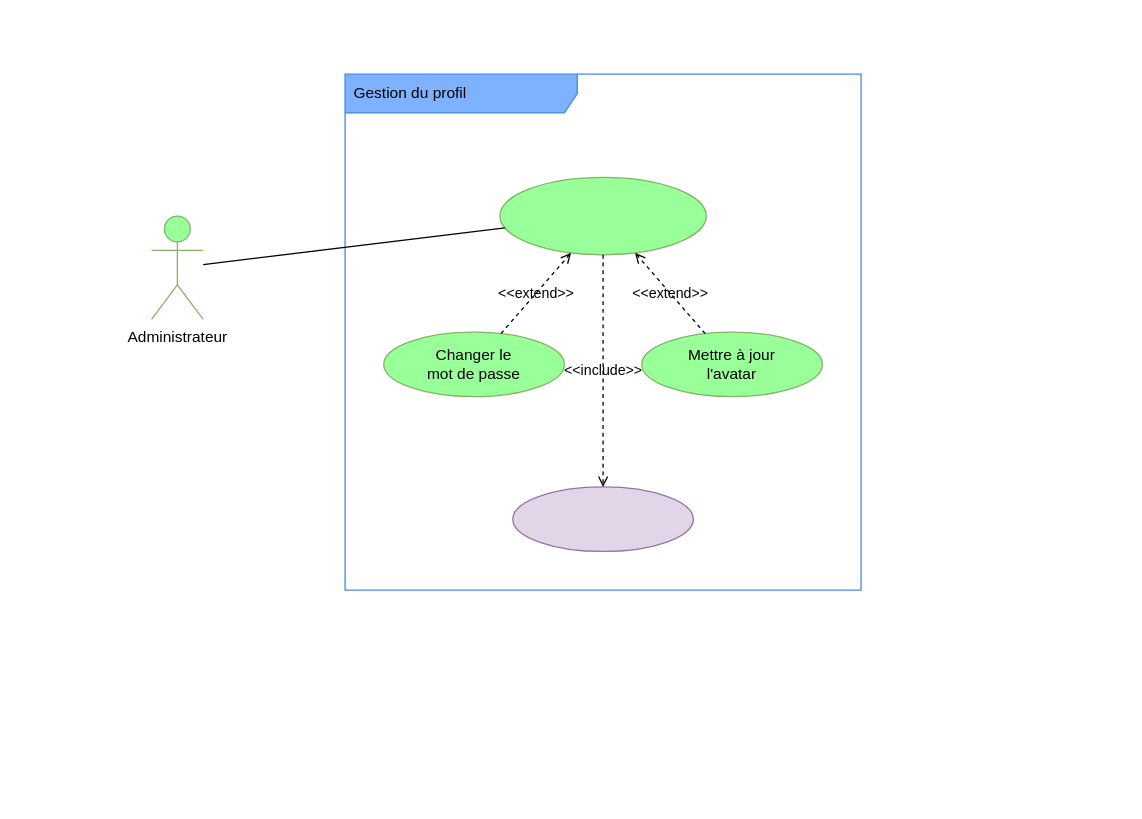
Image size: 1142x819. Some labels were removed from this diagram. The centre of each missing label's shape, as x and y in pixels:
"Gérer les informations du profil" goes at pixel 602 215.
"S'authentifier" goes at pixel 602 518.
